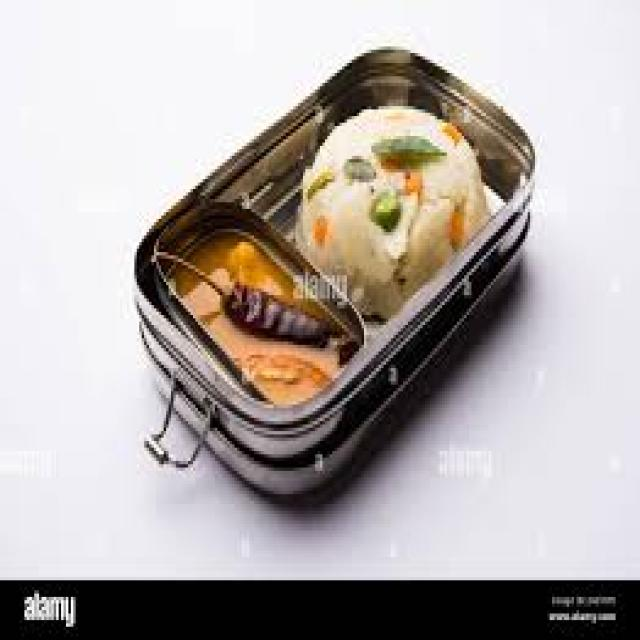UPMA: (293, 103, 489, 315)
